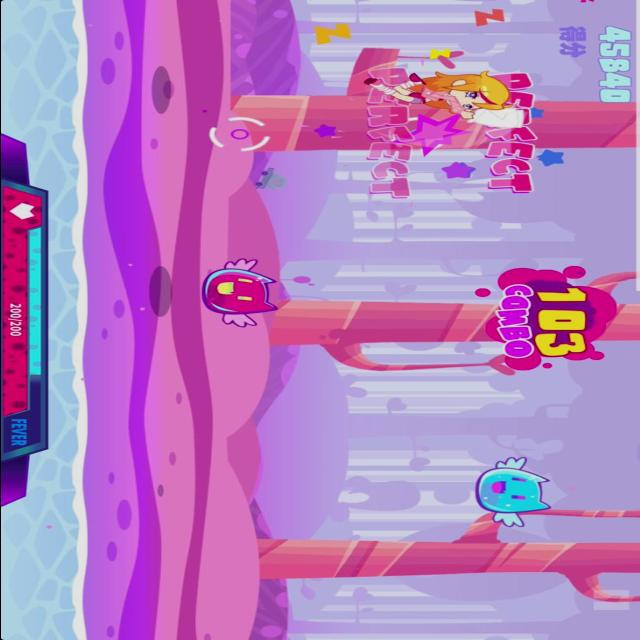mao: (469, 456, 556, 530), (197, 257, 285, 329)
